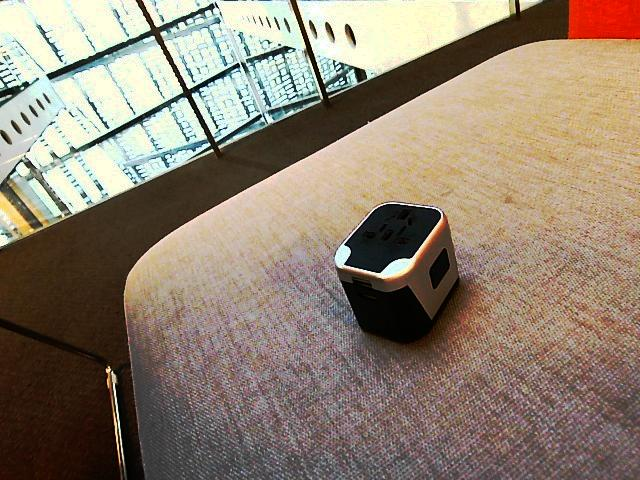adapter: (333, 200, 459, 344)
